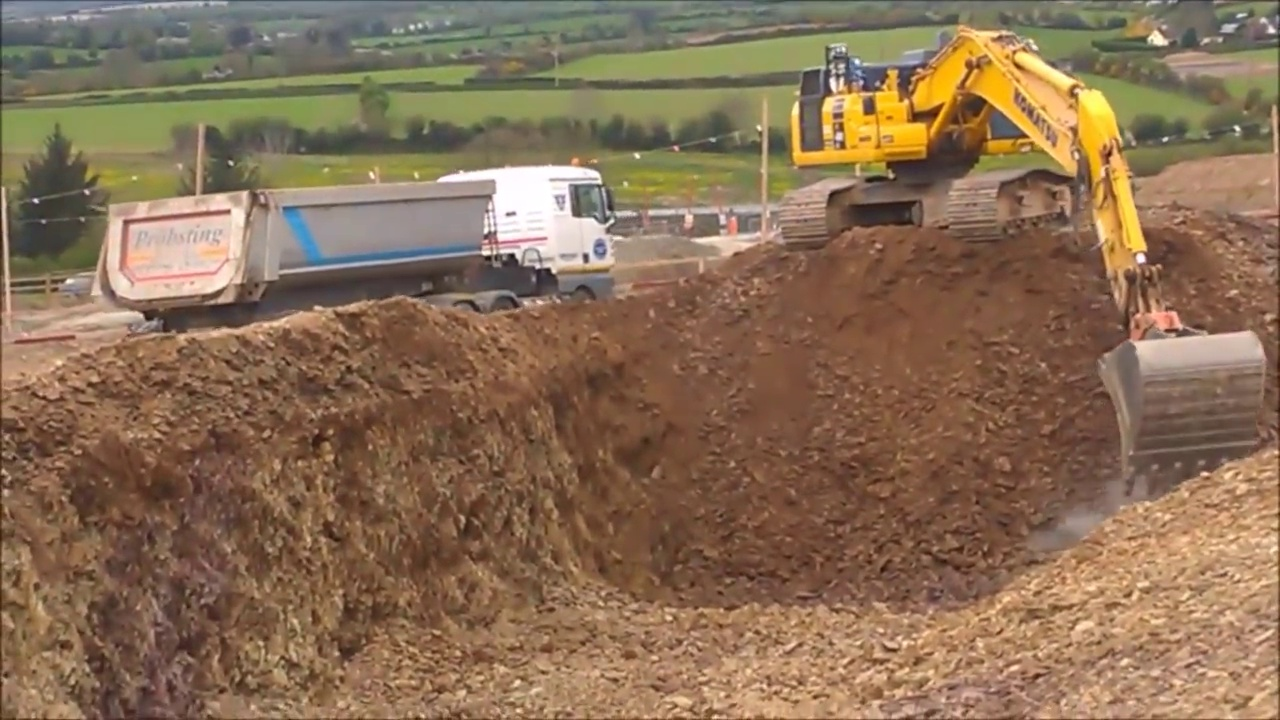excavator: (776, 23, 1270, 497)
truck: (92, 165, 620, 332)
